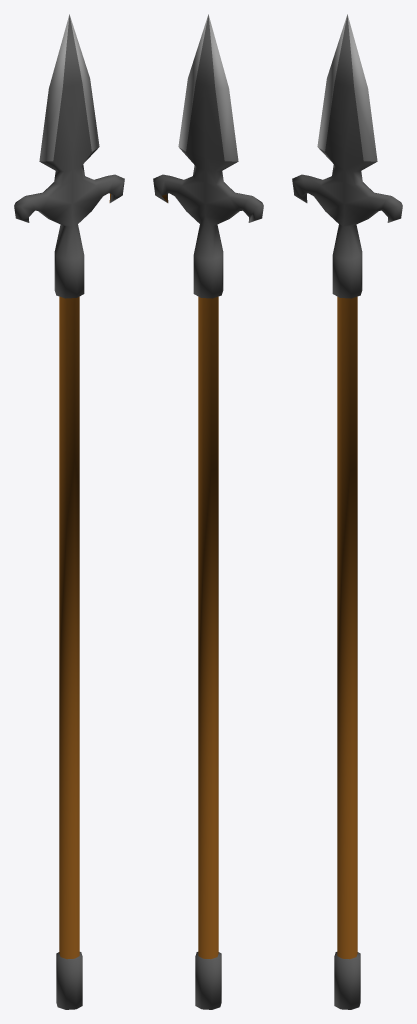
The model's file is spear.fbx.
3 views of the same model, side by side, from view 1: azimuth 30°, elevation 25°; view 2: azimuth 150°, elevation 25°; view 3: azimuth 330°, elevation 25° (orthographic).
Visible parts, largest first — view 1: Spear; view 2: Spear; view 3: Spear.
Part boxes in pixels (x1,y1,x2,y2): Spear: (14, 14, 124, 1009); Spear: (153, 14, 263, 1009); Spear: (292, 14, 402, 1009).
Size of the model in its own units: 30.88 by 264 by 7.37.
